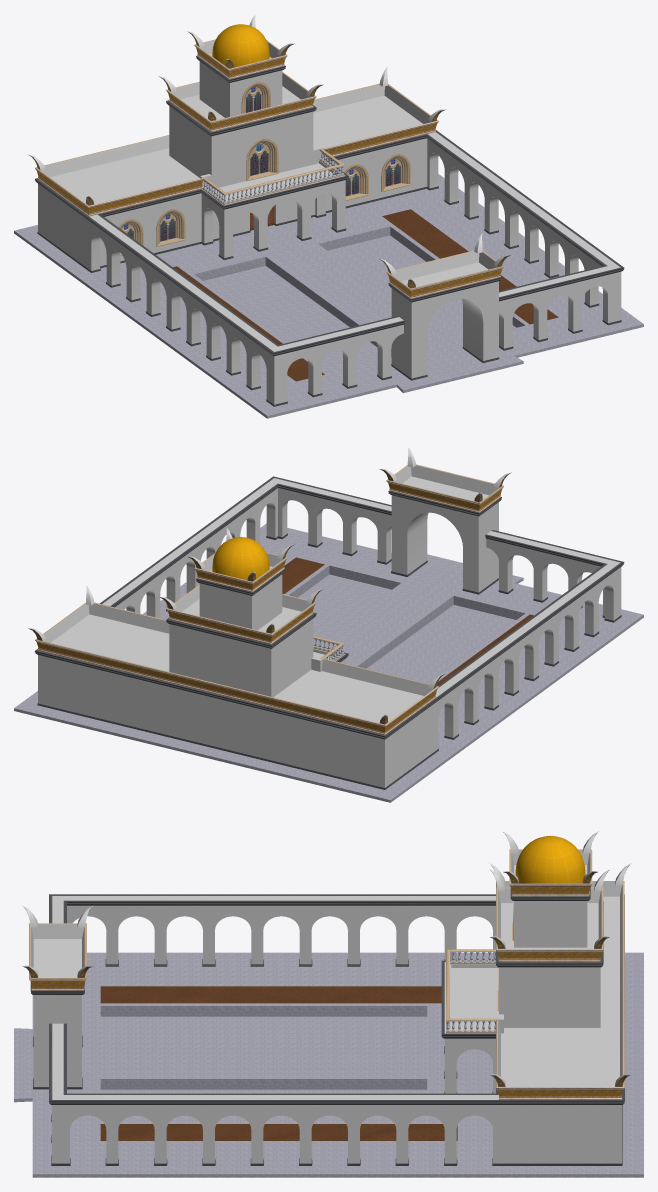
The model's file is Templo_02.fbx.
3 renders of one model, top to bottom at view 1: azimuth 30°, elevation 25°; view 2: azimuth 150°, elevation 25°; view 3: azimuth 270°, elevation 25°, orthographic. The views are drawn at different scales.
Parts seen in each view (by area): view 1: Templo_LOD0; view 2: Templo_LOD0; view 3: Templo_LOD0.
Part boxes in pixels (x1,y1,x2,y2): Templo_LOD0: [14, 15, 643, 418]; Templo_LOD0: [14, 448, 643, 802]; Templo_LOD0: [14, 831, 643, 1177].
Size of what is drawn, in the model's own units: 4343 by 2166 by 5214.
